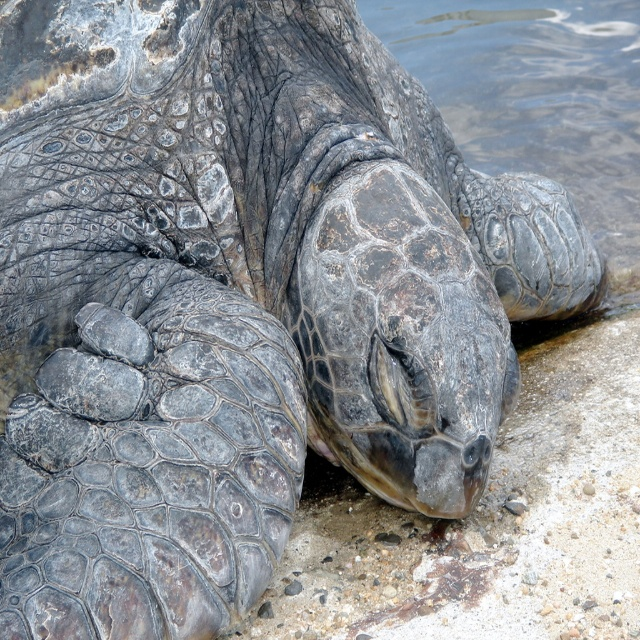Sea turtle: (0, 0, 605, 640)
